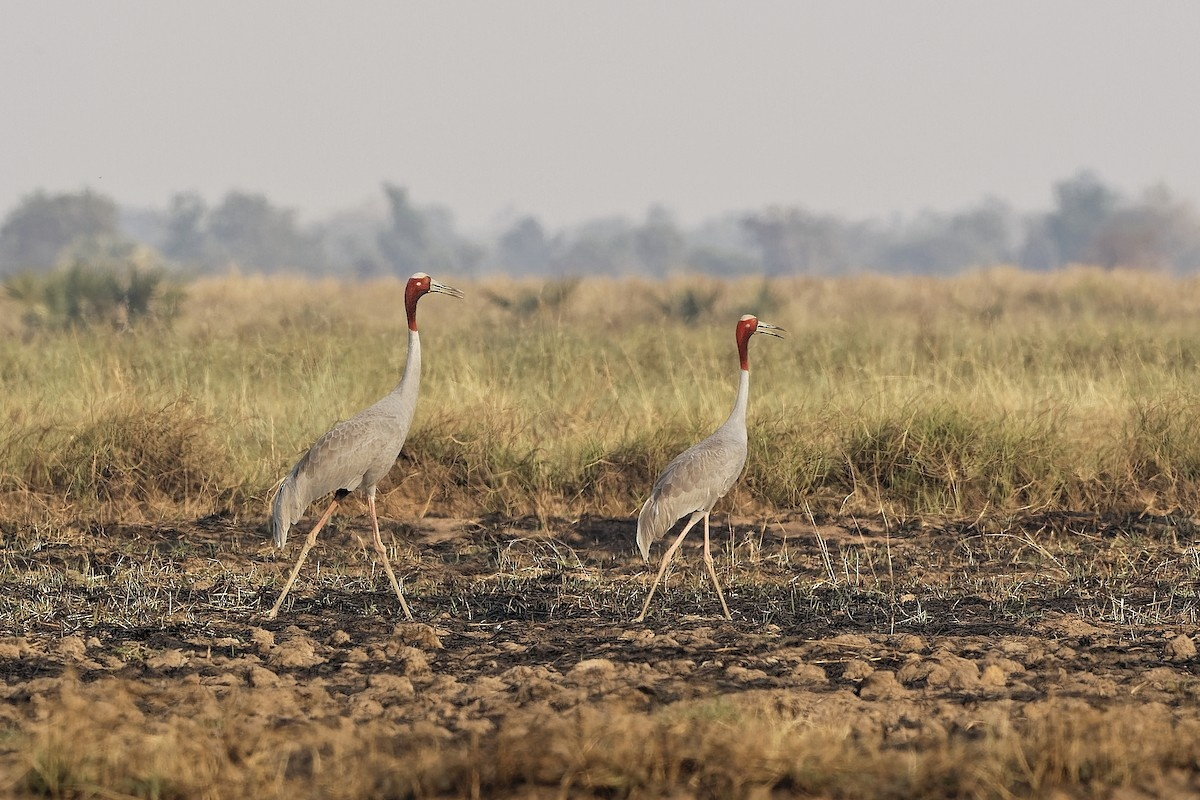crane: (261, 270, 476, 631), (633, 310, 795, 625)
